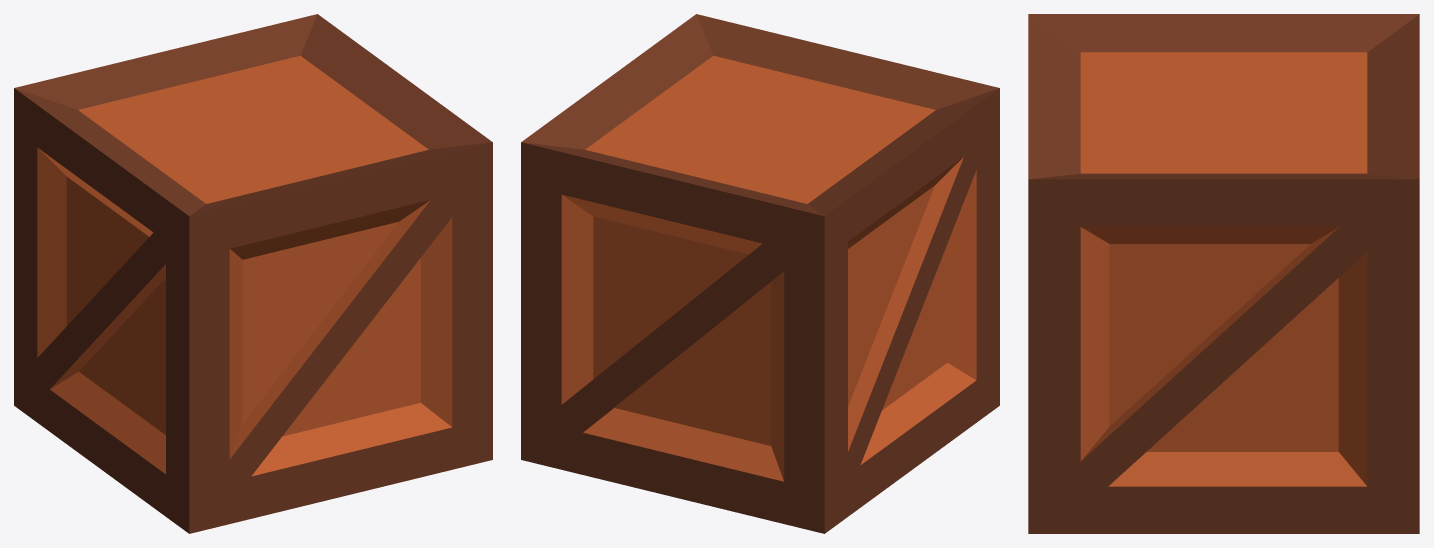
The model's file is Crates.fbx.
The picture shows the model from 3 angles, left to right: view 1: azimuth 30°, elevation 25°; view 2: azimuth 150°, elevation 25°; view 3: azimuth 270°, elevation 25°; orthographic projection. The views are drawn at different scales.
Parts seen in each view (by area): view 1: MarketStall.006; view 2: MarketStall.006; view 3: MarketStall.006.
Boxes of the visible parts, box(x1,y1,x2,y2) form: MarketStall.006: box(14, 14, 492, 533); MarketStall.006: box(521, 14, 999, 533); MarketStall.006: box(1028, 14, 1419, 533).
Size of the model in its own units: 1 by 1 by 1.
